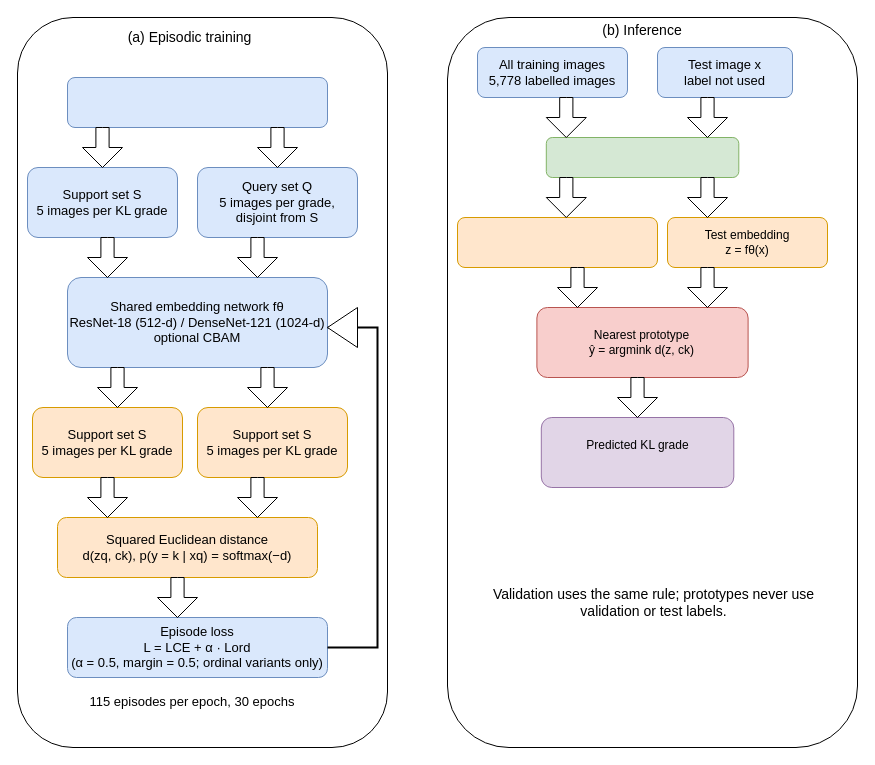
Image size: 875x765. Some labels were removed from this diagram. The shapes that lost their labels are listed below. From the top down, each one's centre as x and y in pixels, then its label:
point 197,102: Sample a 5-way episode from the training set (class-balanced)
point 642,157: Trained fθ (frozen) same network as in (a)
point 557,242: Class prototypes ck = mean training embedding of grade k (computed once)
